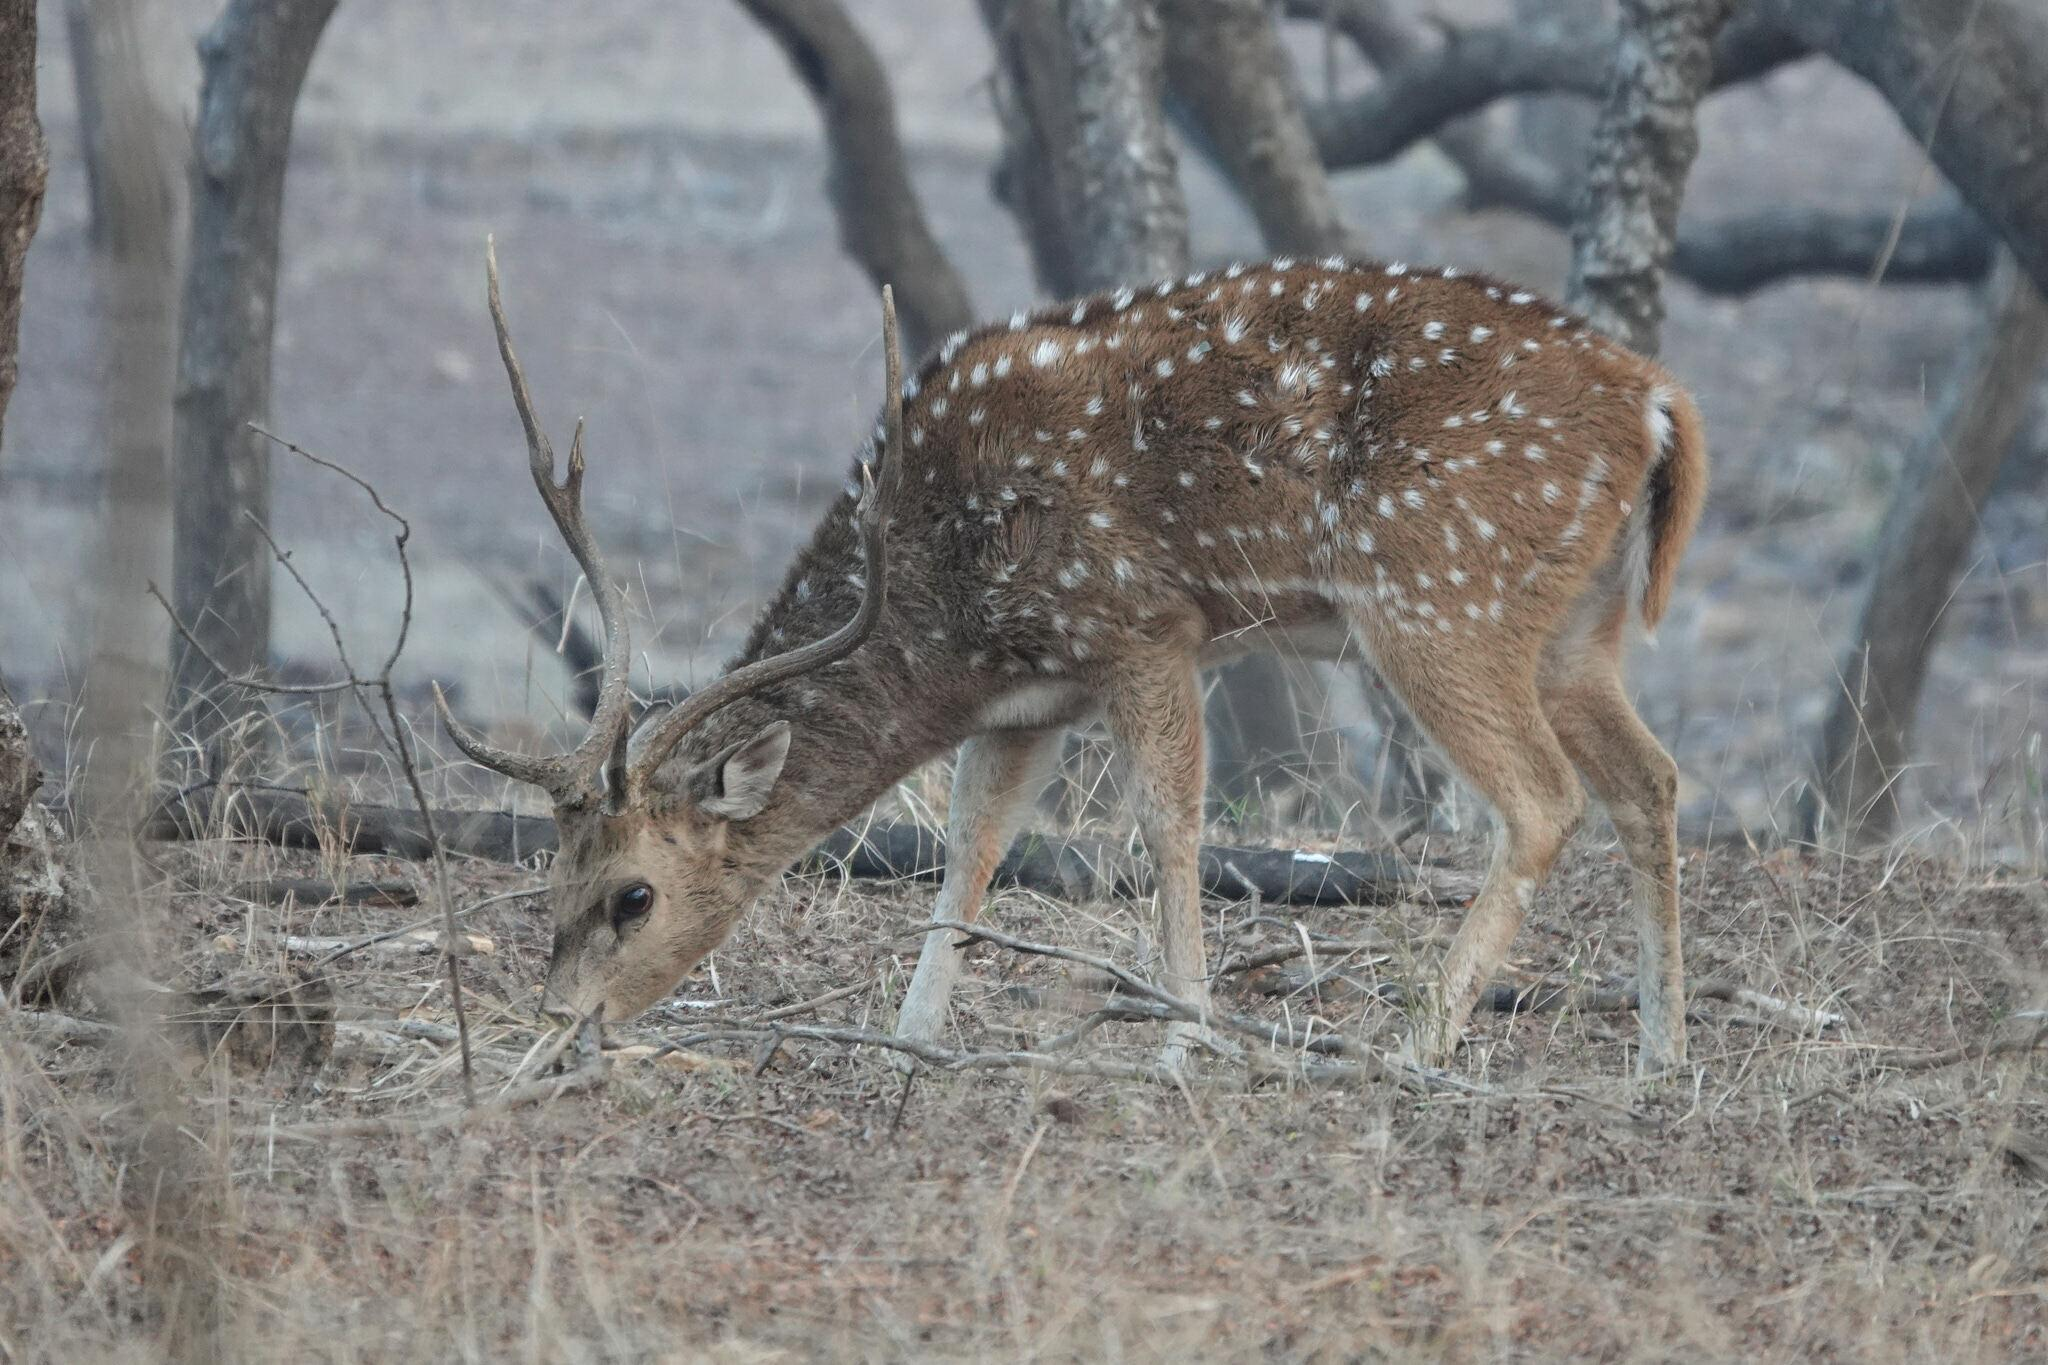Deer: (452, 254, 1705, 1071)
